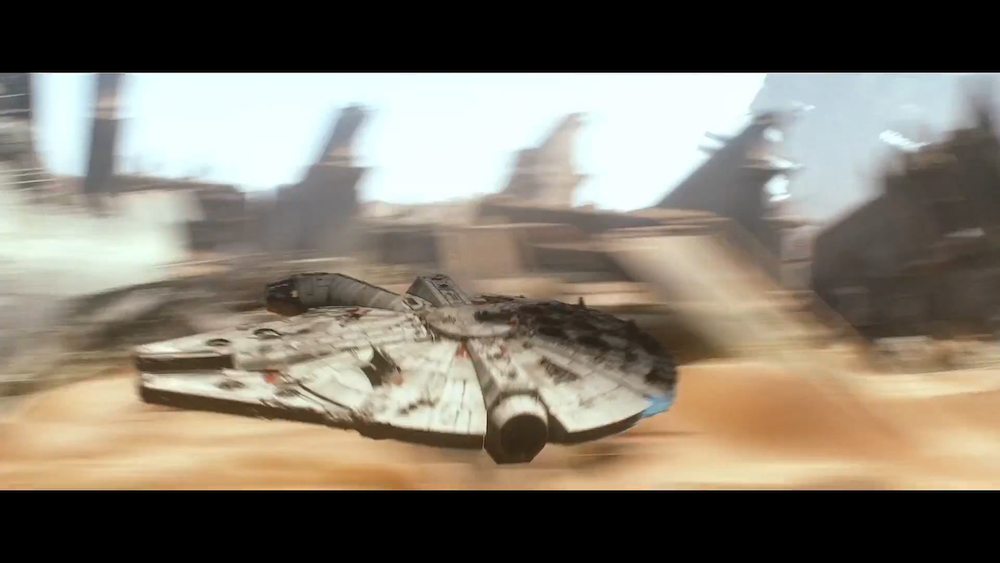Millennium Falcon: (134, 272, 679, 467)
